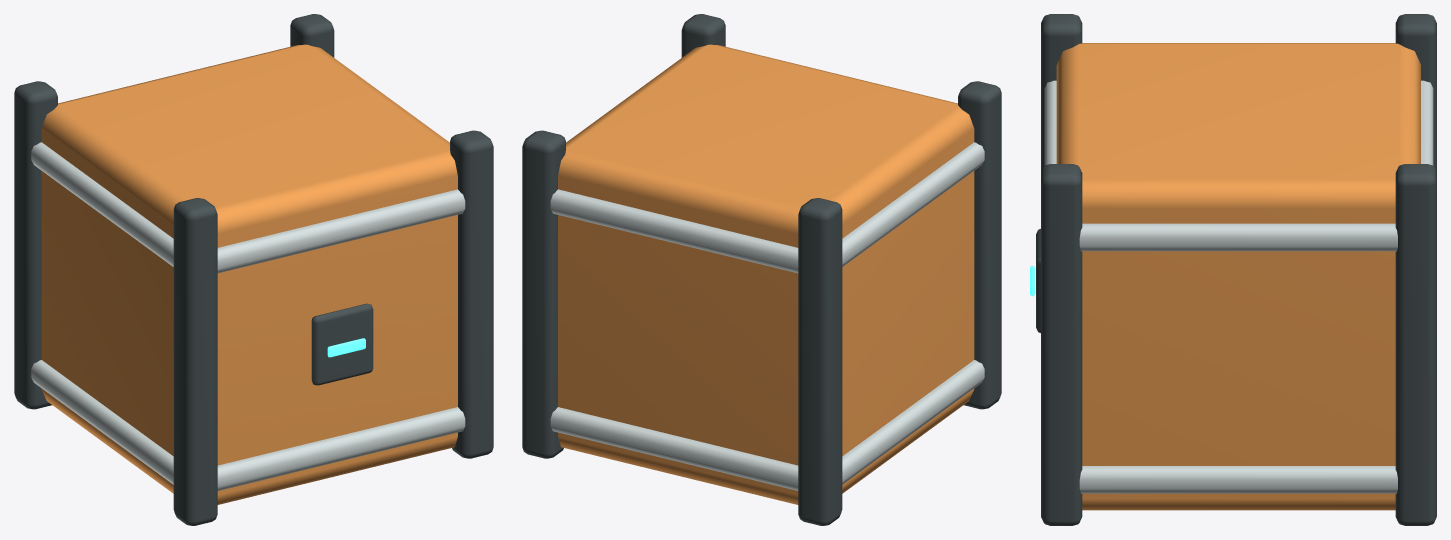
Rendered from crate.glb.
3 renders of one model, left to right at view 1: azimuth 30°, elevation 25°; view 2: azimuth 150°, elevation 25°; view 3: azimuth 270°, elevation 25°, orthographic. The views are drawn at different scales.
Parts seen in each view (by area): view 1: cargo shell, corner protector, corner protector.002, steel band, steel band.001, corner protector.001, lock, corner protector.003; view 2: cargo shell, corner protector.001, corner protector.003, steel band, steel band.001, corner protector, corner protector.002; view 3: cargo shell, corner protector.003, corner protector.002, steel band.001, steel band, corner protector.001, corner protector, lock.
Boxes of the visible parts, <box> form: cargo shell: <box>41,44,457,504</box>; corner protector: <box>173,198,217,525</box>; corner protector.002: <box>450,130,493,458</box>; steel band: <box>31,360,465,490</box>; steel band.001: <box>31,142,465,273</box>; corner protector.001: <box>14,81,57,409</box>; lock: <box>311,303,373,385</box>; corner protector.003: <box>290,14,334,57</box>; cargo shell: <box>558,44,974,504</box>; corner protector.001: <box>798,198,842,525</box>; corner protector.003: <box>522,130,565,458</box>; steel band: <box>550,360,984,490</box>; steel band.001: <box>550,142,984,273</box>; corner protector: <box>958,81,1001,409</box>; corner protector.002: <box>681,14,725,57</box>; cargo shell: <box>1056,43,1420,510</box>; corner protector.003: <box>1395,164,1436,525</box>; corner protector.002: <box>1041,164,1082,525</box>; steel band.001: <box>1044,80,1433,251</box>; steel band: <box>1079,466,1397,493</box>; corner protector.001: <box>1395,14,1436,172</box>; corner protector: <box>1041,14,1082,172</box>; lock: <box>1036,229,1040,332</box>.
Size of the model in its own units: 1.63 by 1.6 by 1.68.
